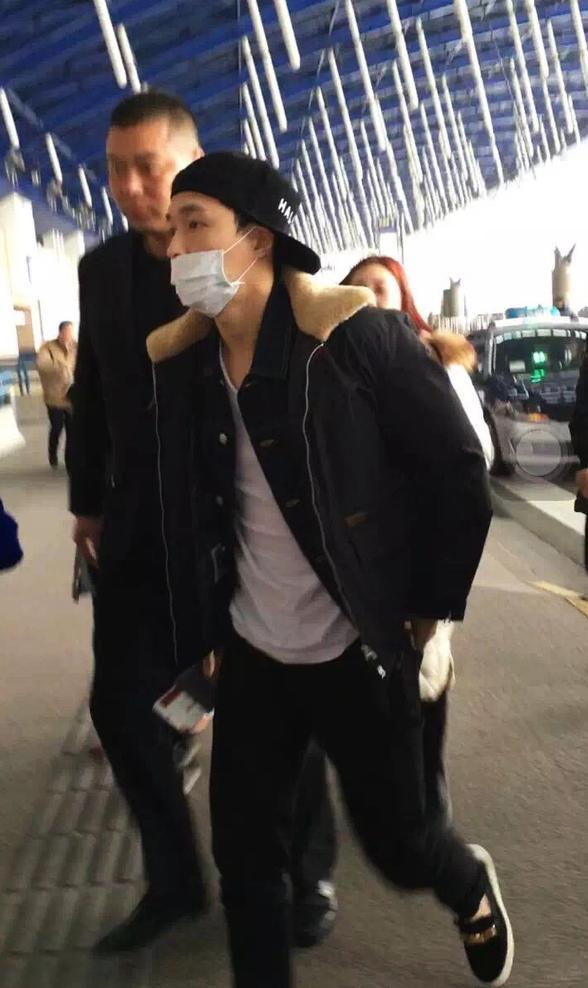NONE: (109, 142, 184, 226)
WRONG: (168, 201, 259, 310)
